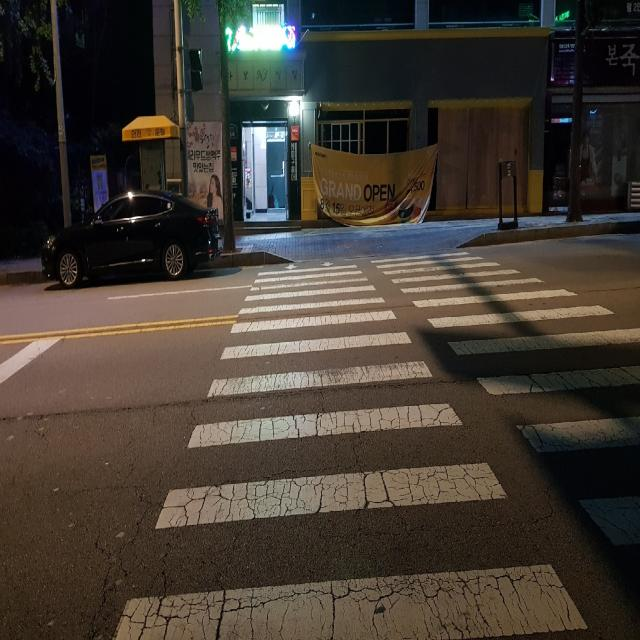횡단보도: (110, 246, 640, 638)
